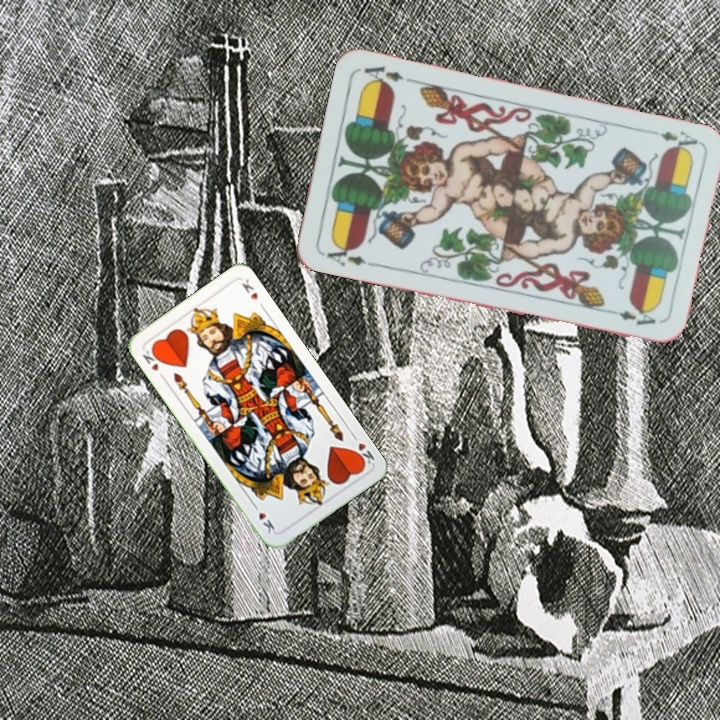EA: (318, 238, 377, 269), (643, 126, 701, 156)
HK: (348, 430, 377, 469), (138, 344, 164, 374)
